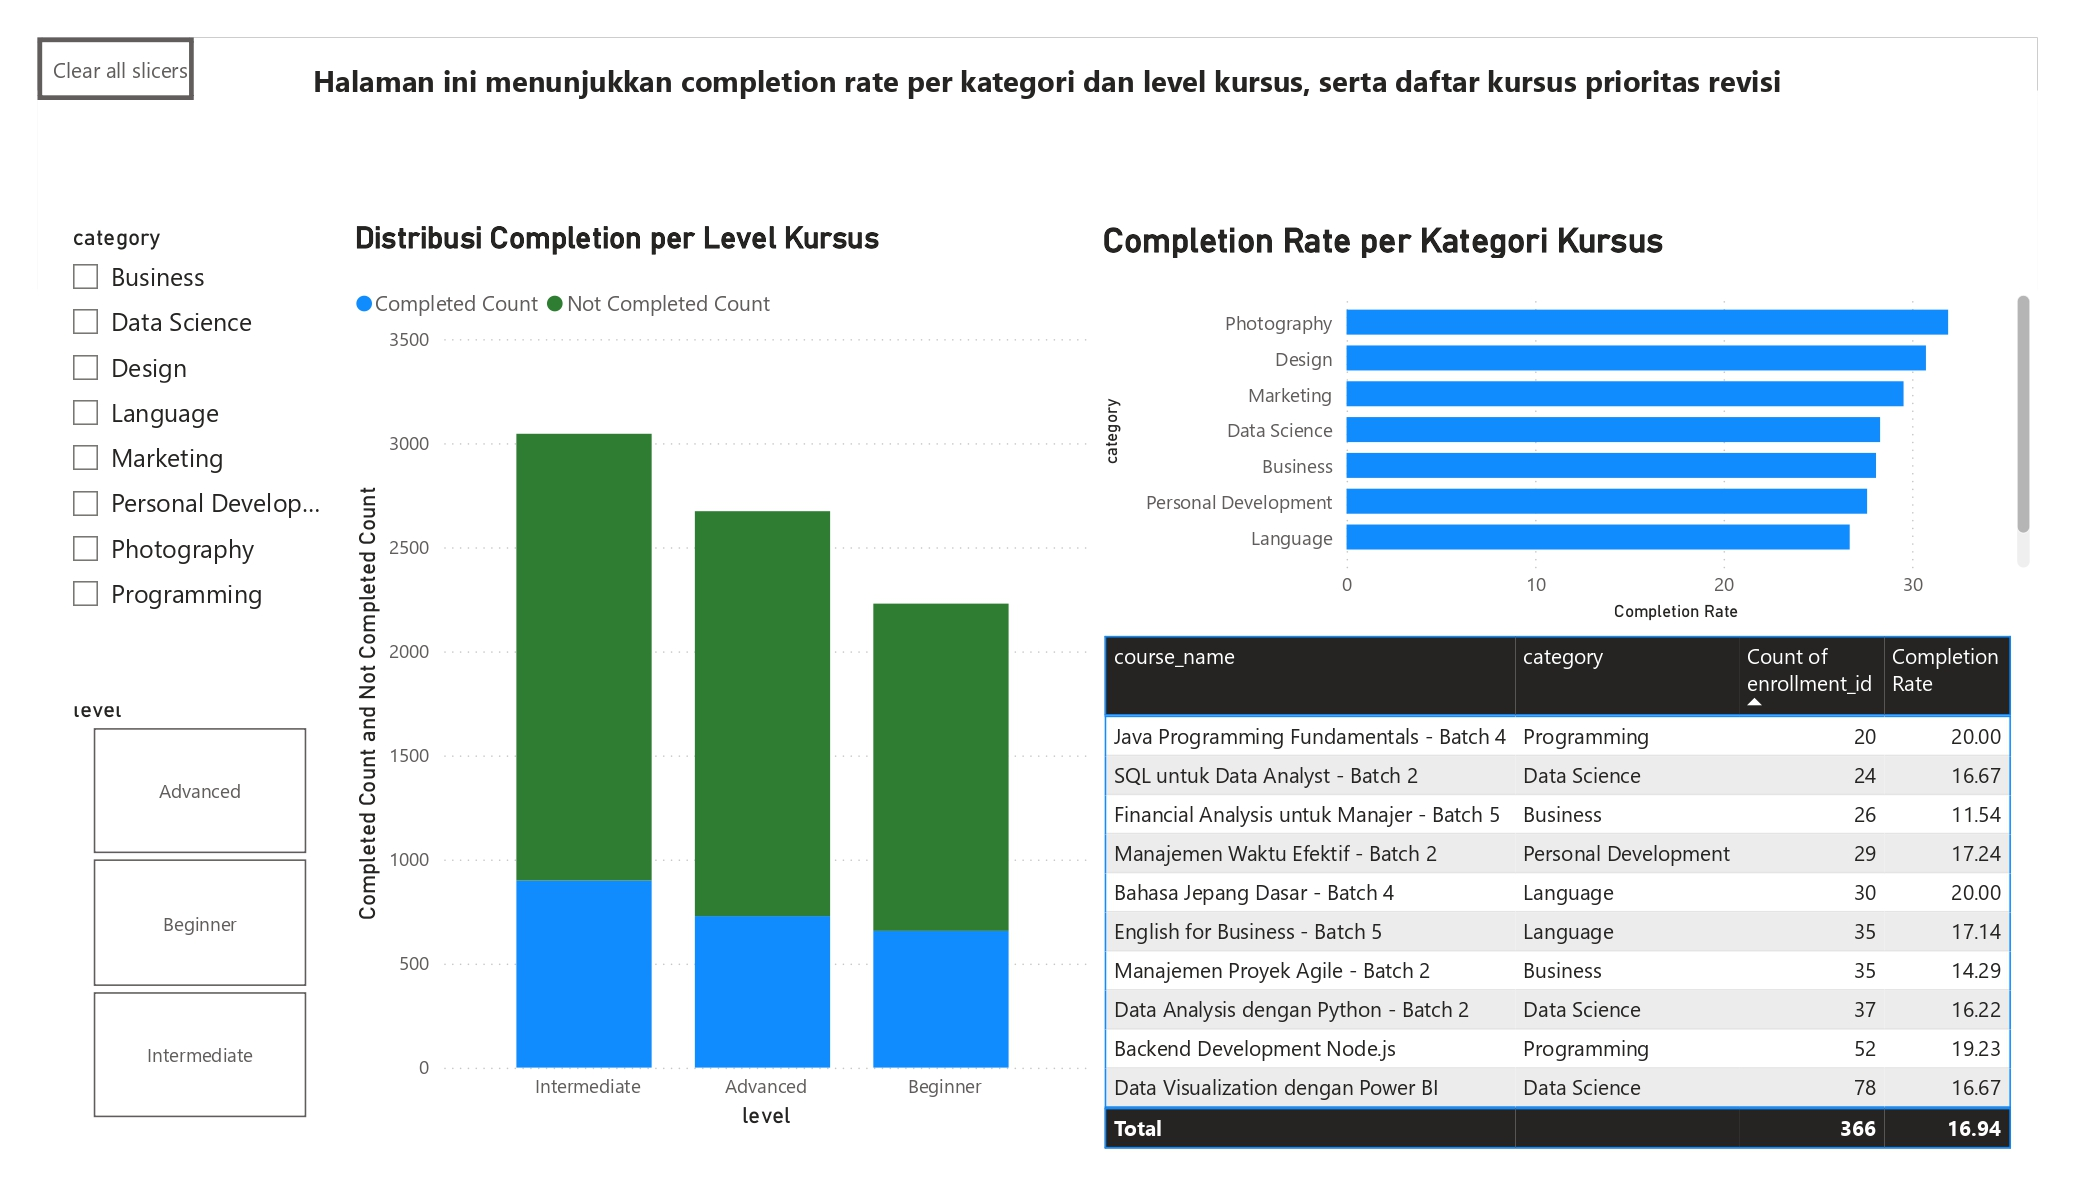

The dashboard page shown, as its layout file describes it:
{"tool":"powerbi","page":{"name":"Course Performance","canvas":[1280,720],"ordinal":2},"visuals":[{"type":"clusteredBarChart","title":"Completion Rate per Kategori Kursus","fields":{"Category":["dim_courses_cleaned.category"],"Y":["fact_enrollments_cleaned.Completion Rate"]},"box":[677.4,117.3,602.6,261],"z":0},{"type":"columnChart","title":"Distribusi Completion per Level Kursus","fields":{"Category":["dim_courses_cleaned.level"],"Y":["fact_enrollments_cleaned.Completed Count","fact_enrollments_cleaned.Not Completed Count"]},"box":[198.5,117.4,479,585.5],"z":1000},{"type":"tableEx","fields":{"Values":["dim_courses_cleaned.course_name","dim_courses_cleaned.category","fact_enrollments_cleaned.enrollment_id","fact_enrollments_cleaned.Completion Rate"]},"box":[677.4,378.3,602.6,341.6],"z":2000},{"type":"slicer","fields":{"Values":["dim_courses_cleaned.level"]},"box":[10.1,417.2,185.6,280.5],"z":2001},{"type":"slicer","fields":{"Values":["dim_courses_cleaned.category"]},"box":[10.1,115.1,186,313],"z":2002},{"type":"actionButton","box":[0,0,100,40],"z":2003},{"type":"textbox","box":[102.6,10.3,1086.5,58.6],"z":2004}]}

Visuals, with their boxes on the page's 1280x720 design canvas (x1, y1, x2, y2). These are canvas units, not pixel positions in the 2075x1200 screenshot, which may show the page scaled, cropped or inside an application window:
"Completion Rate per Kategori Kursus" clusteredBarChart: 677/117/1280/378
"Distribusi Completion per Level Kursus" columnChart: 198/117/678/703
tableEx - dim_courses_cleaned.course_name x dim_courses_cleaned.category: 677/378/1280/720
slicer - dim_courses_cleaned.level: 10/417/196/698
slicer - dim_courses_cleaned.category: 10/115/196/428
actionButton: 0/0/100/40
textbox: 103/10/1189/69
